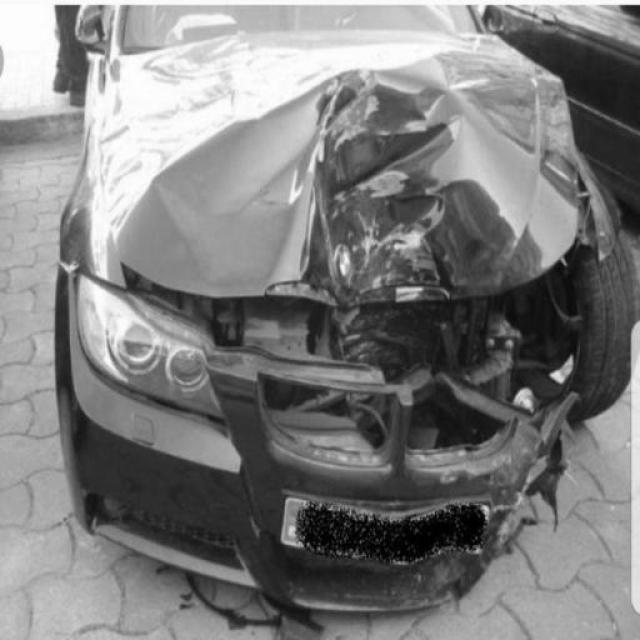crush: (115, 59, 591, 611)
